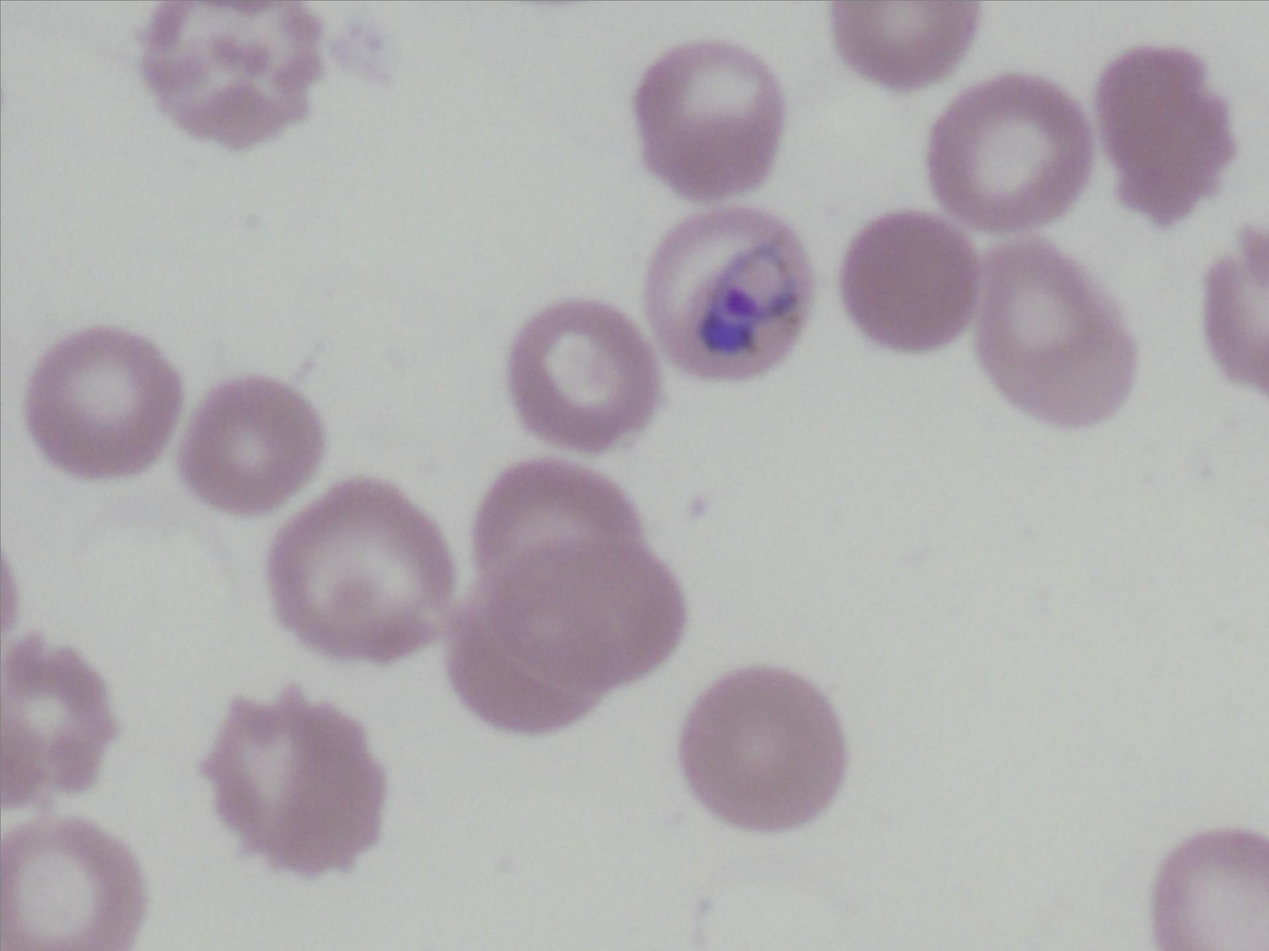Infected: (638, 203, 821, 389)
Uninfected: (476, 527, 679, 693), (269, 481, 452, 665), (200, 695, 380, 874), (969, 243, 1135, 431), (676, 664, 843, 831), (925, 67, 1088, 233), (145, 0, 328, 142), (1095, 43, 1237, 226), (476, 457, 648, 608), (634, 38, 784, 202), (26, 331, 185, 484), (441, 602, 608, 739), (509, 300, 655, 455), (837, 212, 981, 352), (0, 640, 113, 812), (178, 375, 323, 508), (0, 818, 145, 951)
